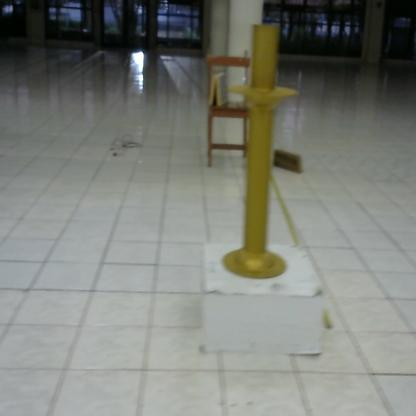pole: (219, 21, 300, 287)
